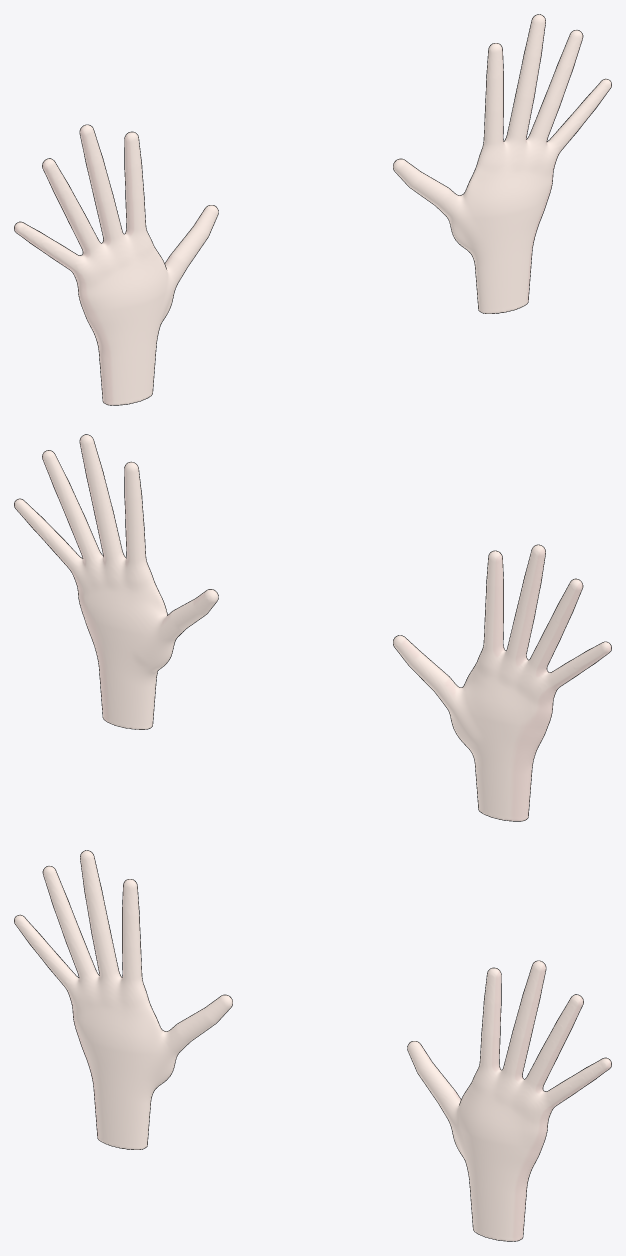
File: hands_v3.glb
3 renders of one model, top to bottom at view 1: azimuth 30°, elevation 25°; view 2: azimuth 150°, elevation 25°; view 3: azimuth 330°, elevation 25°, orthographic.
Visible parts, largest first — view 1: Hand_R, Hand_L; view 2: Hand_R, Hand_L; view 3: Hand_L, Hand_R.
Part boxes in pixels (x1,y1,x2,y2): Hand_R: (393, 14, 611, 313); Hand_L: (14, 124, 218, 405); Hand_R: (14, 434, 218, 729); Hand_L: (393, 544, 611, 821); Hand_L: (14, 850, 232, 1149); Hand_R: (407, 960, 611, 1241).
Bounding box in the file's own units: 0.4764 × 0.214 × 0.0316.
